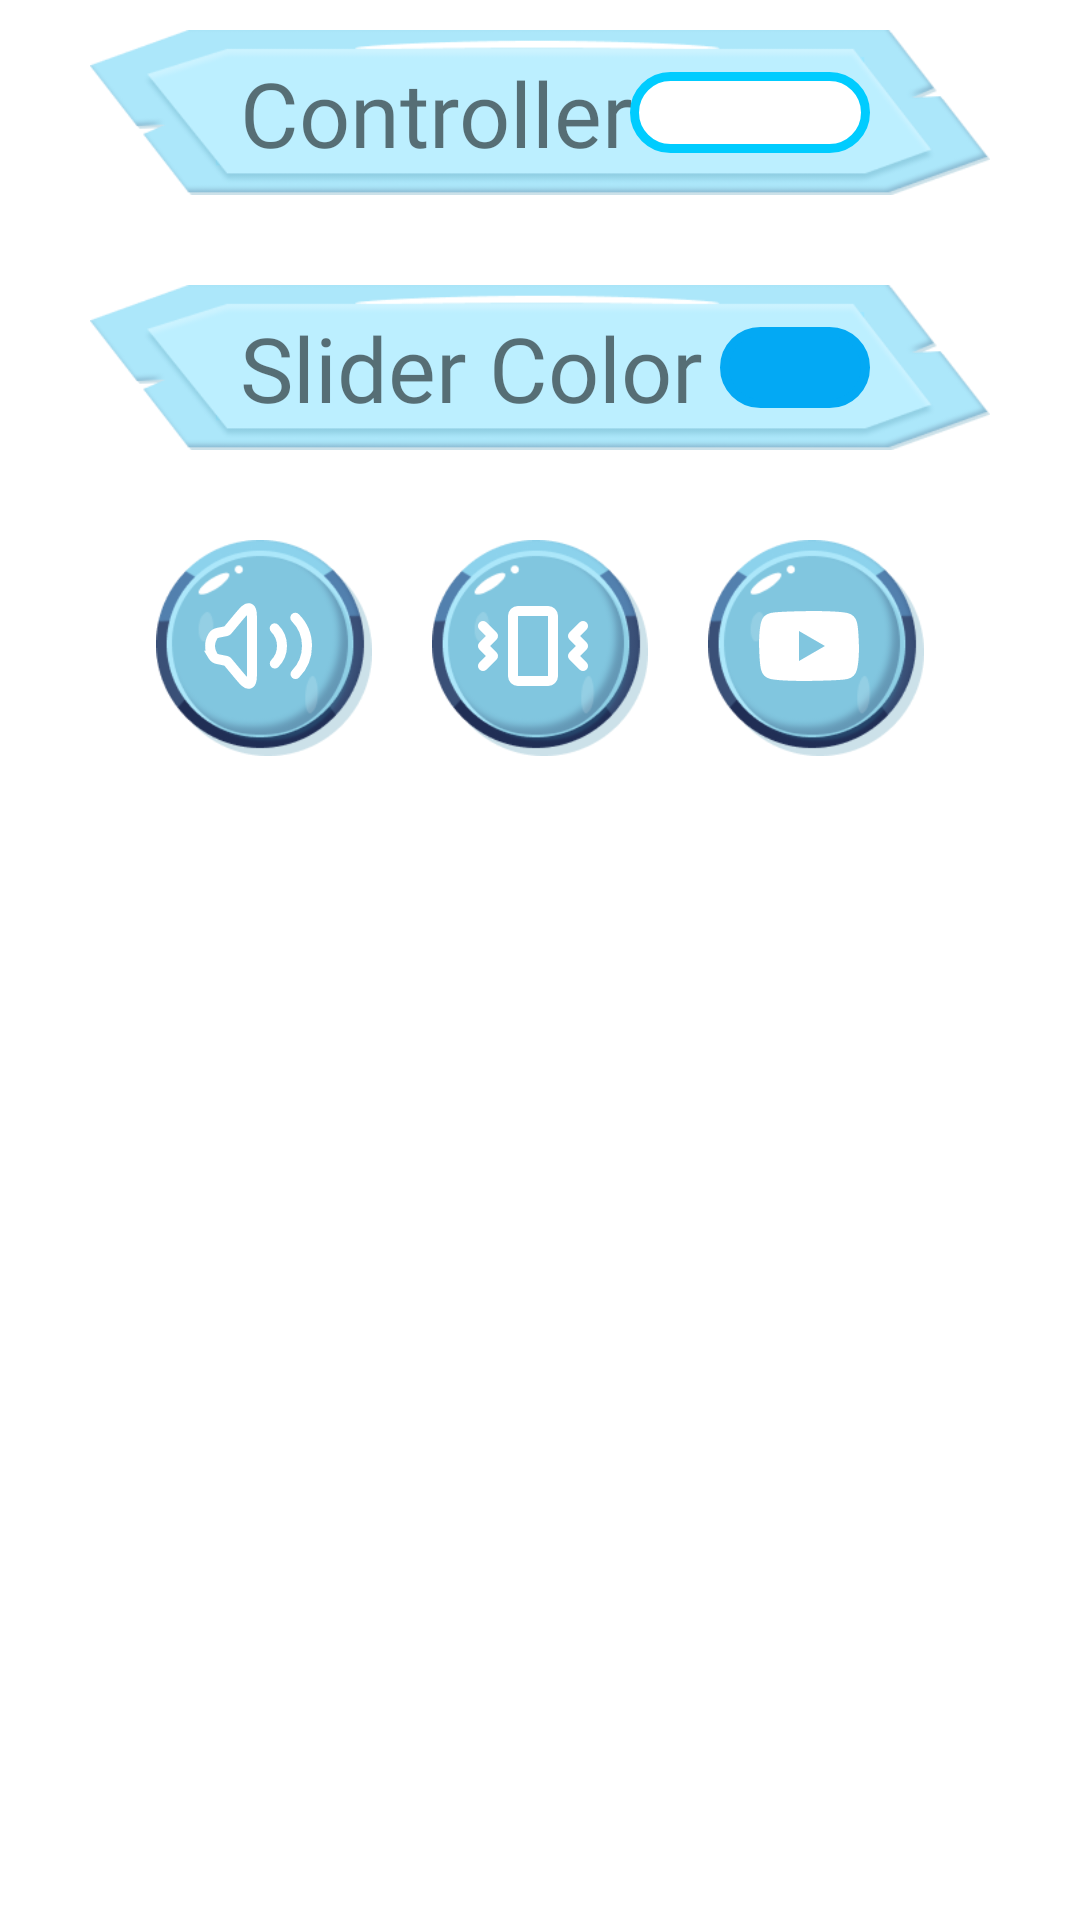

Where icons sit on this 1080x1920 app screen, as (x1,y1,x2,y2):
sound max: (204,603,312,689)
vibrate on: (478,606,588,686)
